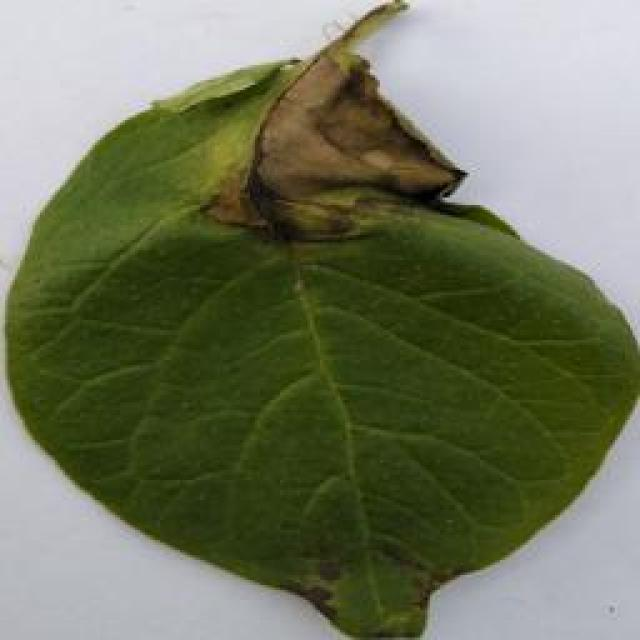Potato_Late_Blight: (1, 9, 632, 631)
